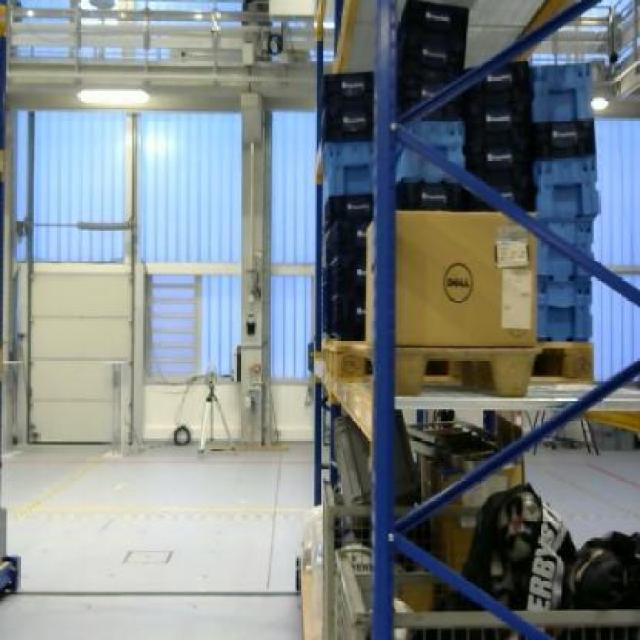box: (395, 208, 540, 347)
